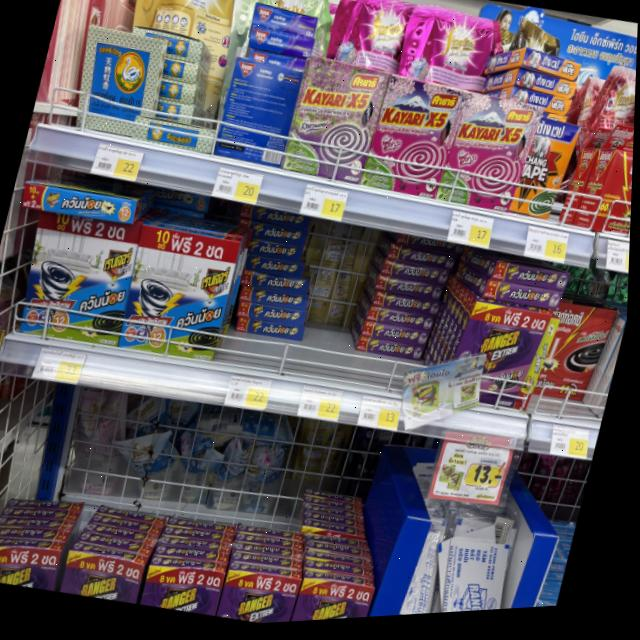empty_shelf: (216, 238, 472, 402)
